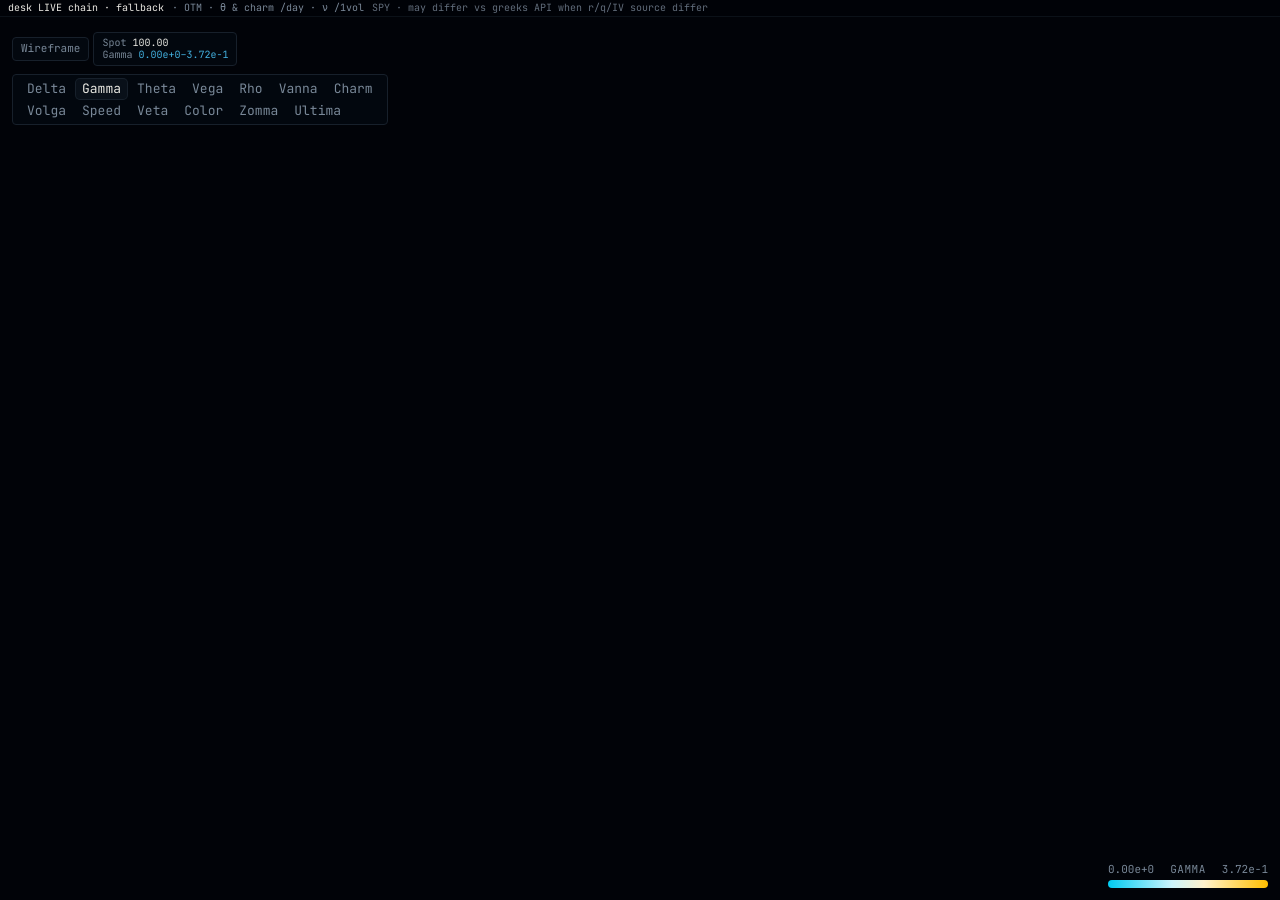
Test: GreeksSurface3D component › toggles the wireframe button label and state
Click the button with test id "wireframe-toggle": (51, 49) [12,37,89,61]
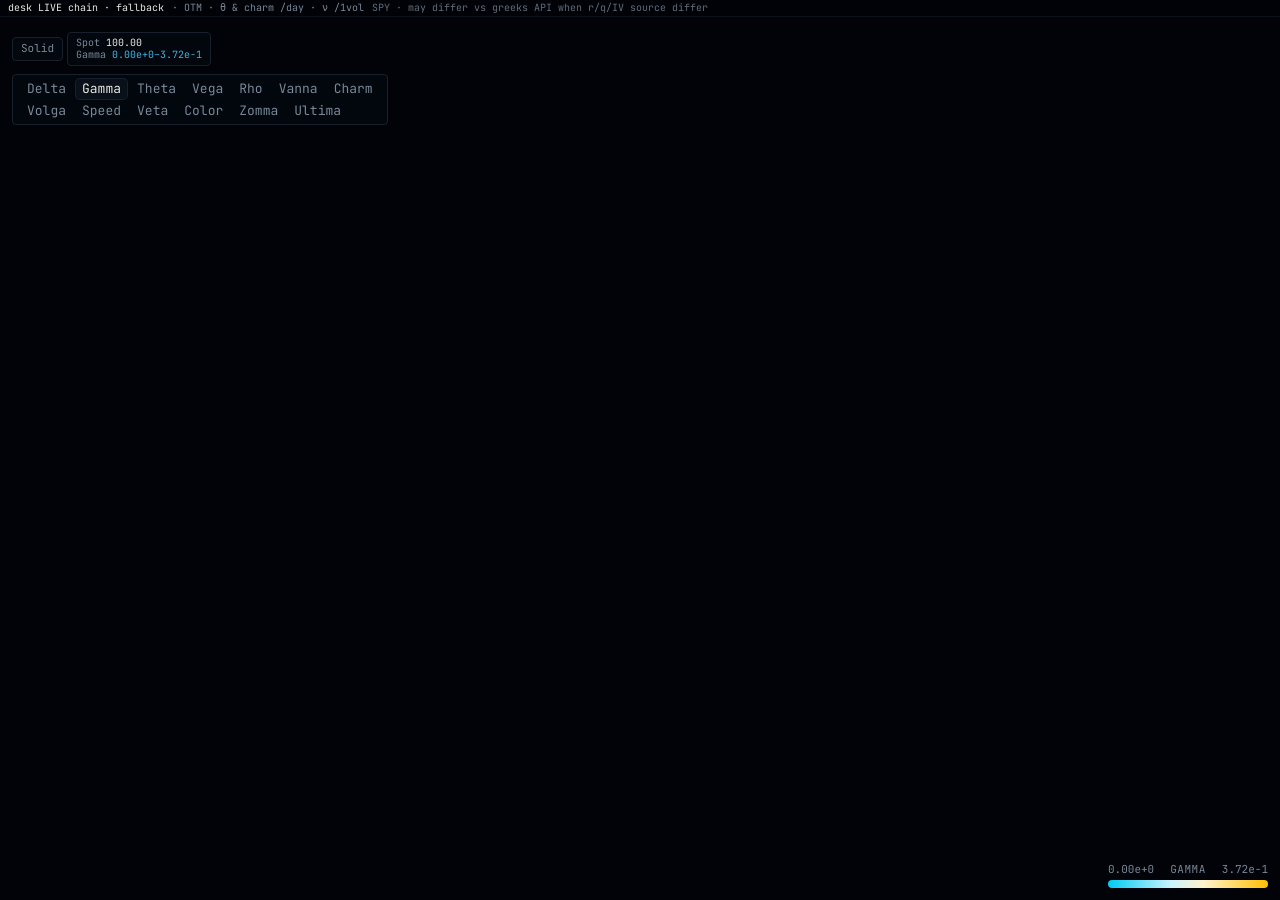
expect the button with test id "wireframe-toggle" reads "Solid": met
Click the button with test id "wireframe-toggle": (38, 49) [12,37,63,61]
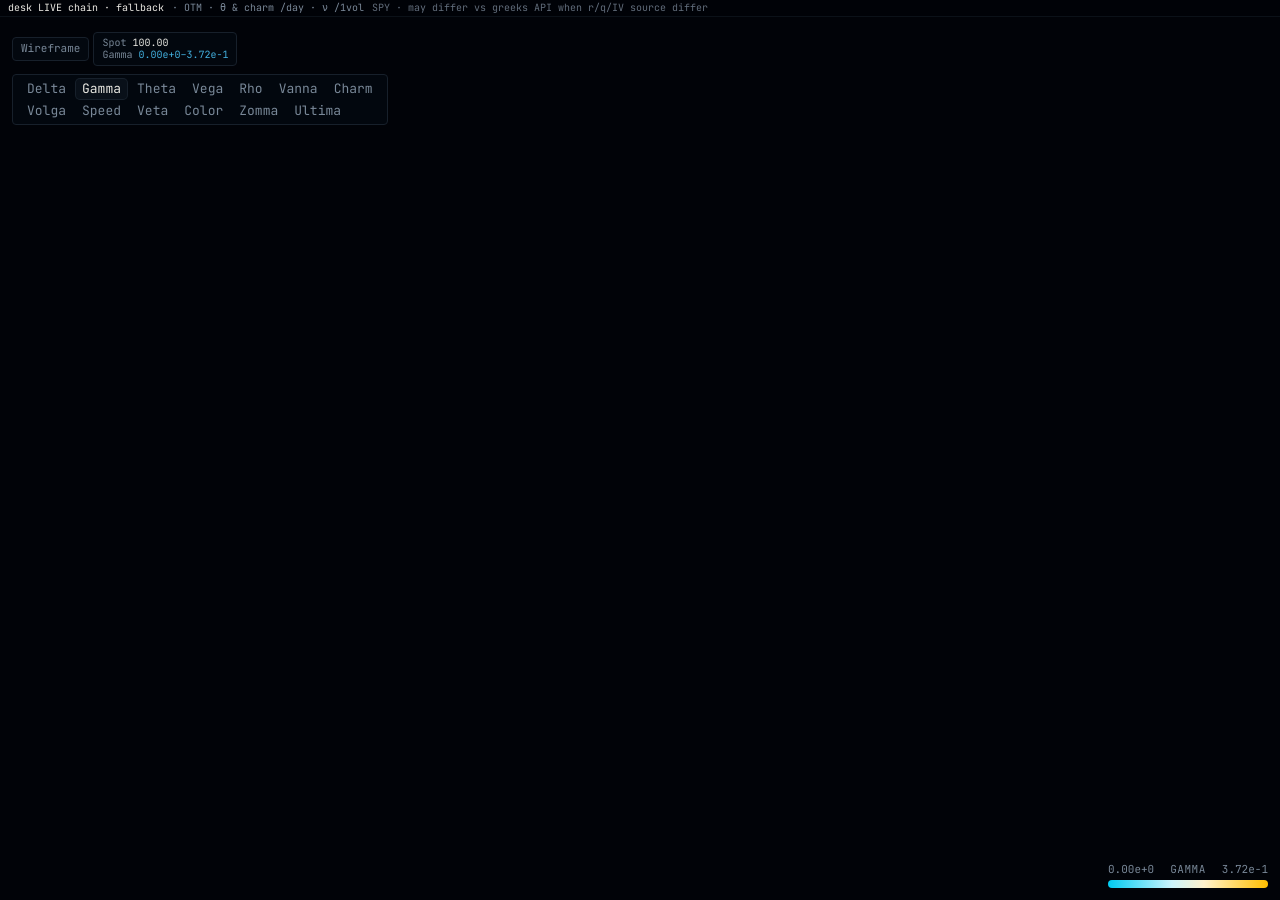
expect the button with test id "wireframe-toggle" reads "Wireframe": met, box [12,37,89,61]
